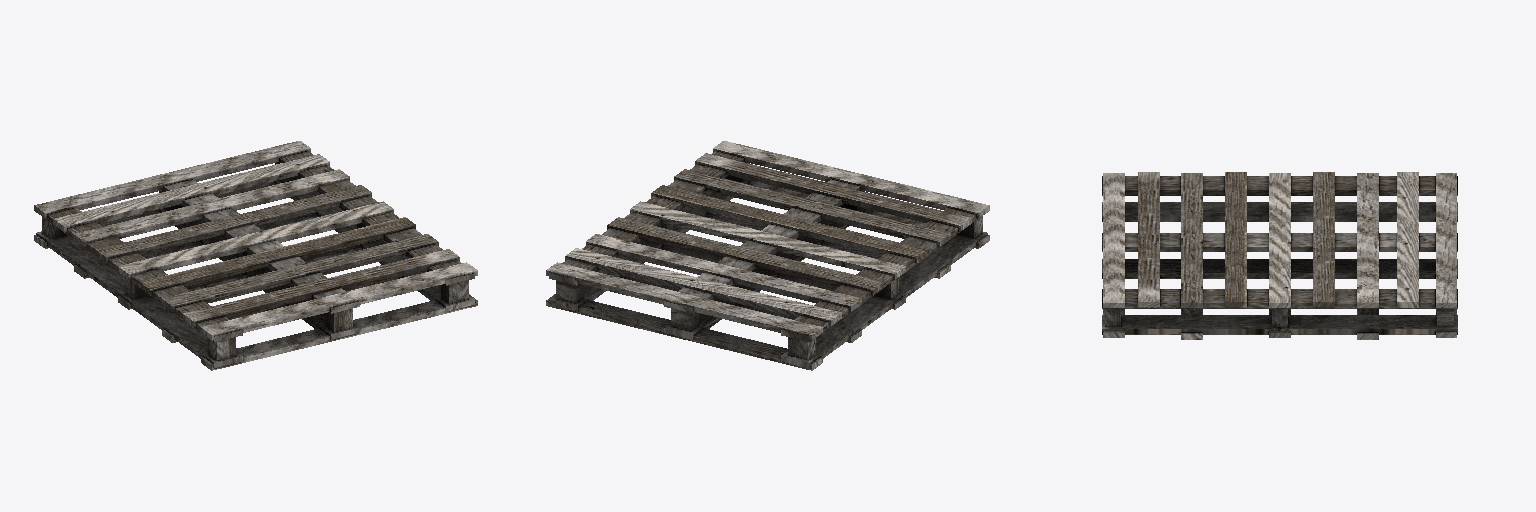
3 renders of one model, left to right at view 1: azimuth 30°, elevation 25°; view 2: azimuth 150°, elevation 25°; view 3: azimuth 270°, elevation 25°, orthographic.
Parts seen in each view (by area): view 1: PalletWide; view 2: PalletWide; view 3: PalletWide.
Boxes of the visible parts, x1=… form: PalletWide: x1=34, y1=141, x2=477, y2=370; PalletWide: x1=546, y1=141, x2=989, y2=370; PalletWide: x1=1102, y1=172, x2=1457, y2=339.
Bounding box in the file's own units: 6.65 × 0.8912 × 7.72.
Materials: 1 (1 with a texture image).